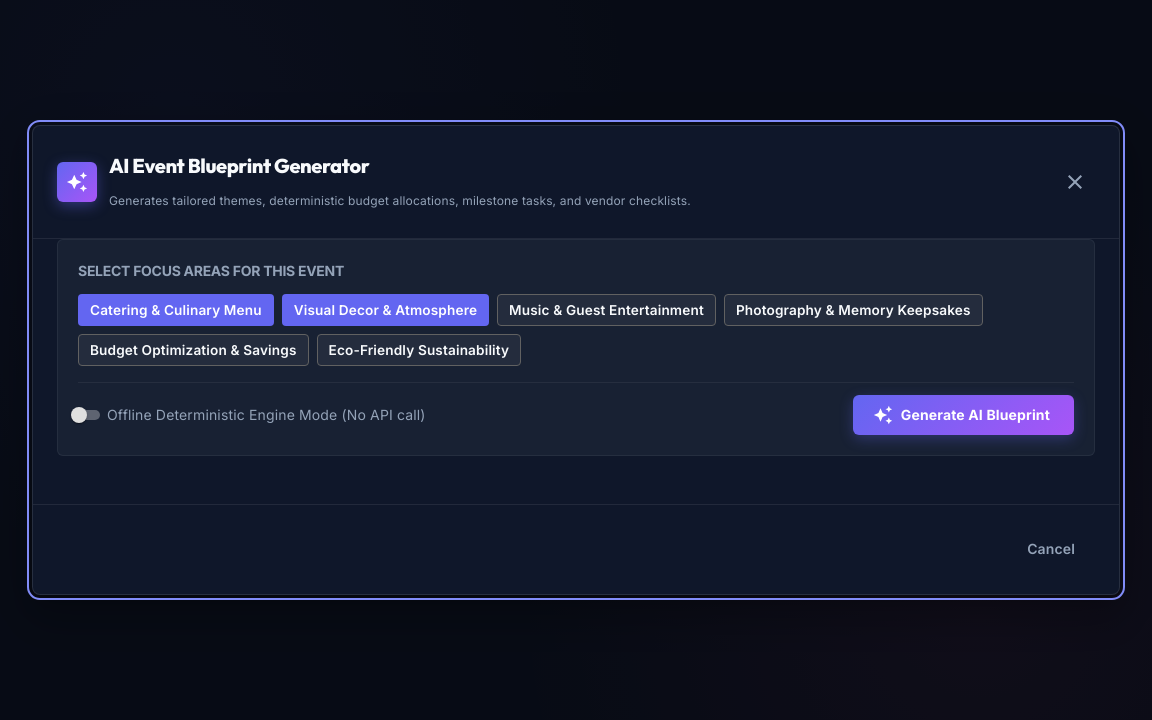
Test: AIPlanModal Component › commits and applies proposal to event when 'Apply This Blueprint' is clicked
Click the button "Generate AI Blueprint" at x=963, y=415, box [853,395,1074,436]
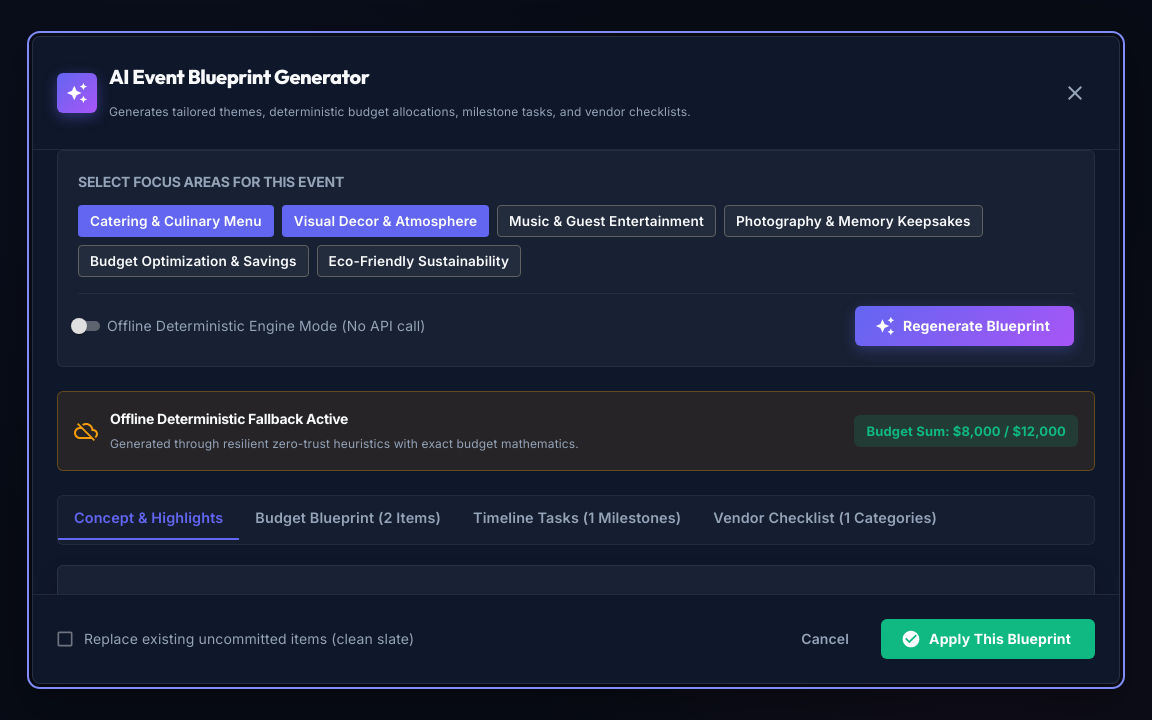
Result: the button "Apply This Blueprint" is shown
Click the button "Apply This Blueprint" at x=988, y=639, box [881,618,1095,659]
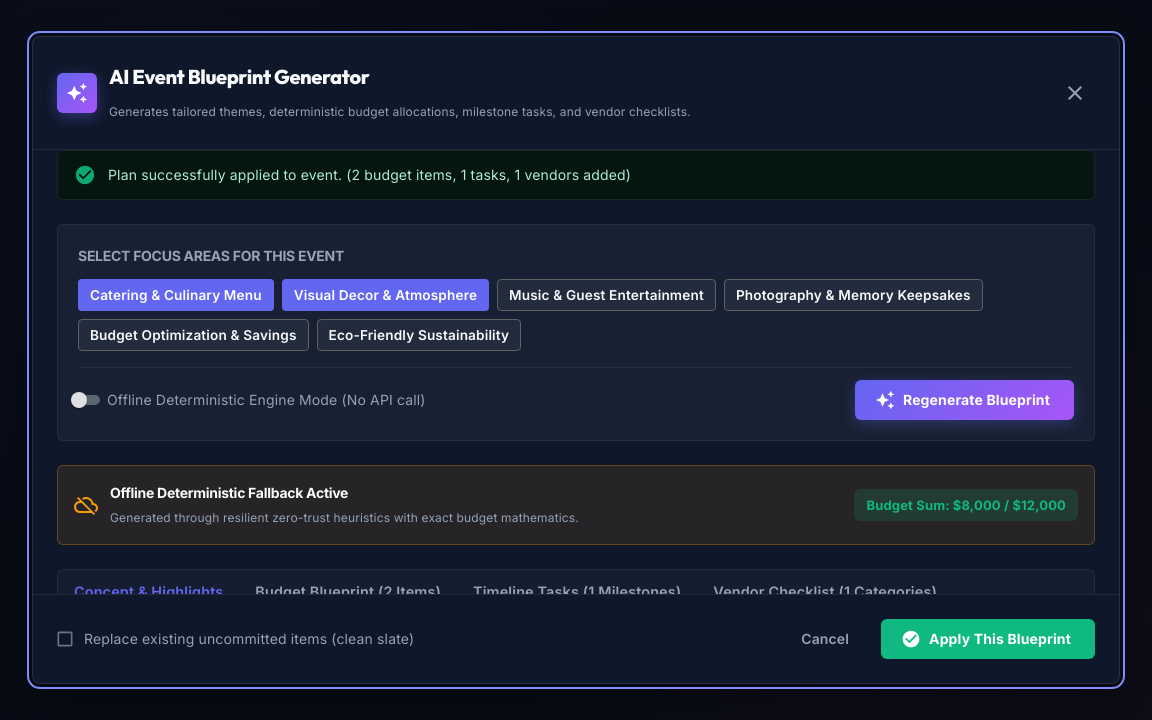
Result: the text "Plan successfully applied to event. (2 budget items, 1 tasks, 1 vendors added)" is shown at [108,166,631,183]
